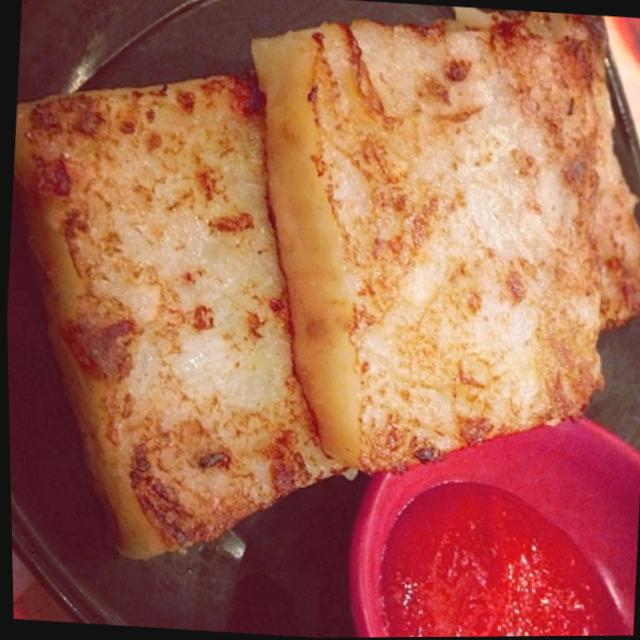蛋糕甜品: (20, 0, 640, 567)
